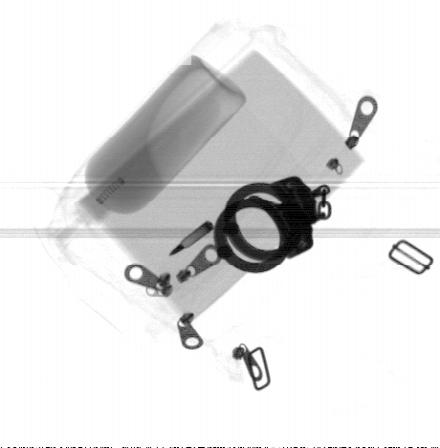Bullet: (165, 217, 216, 257)
HandCuffs: (213, 176, 332, 275)
